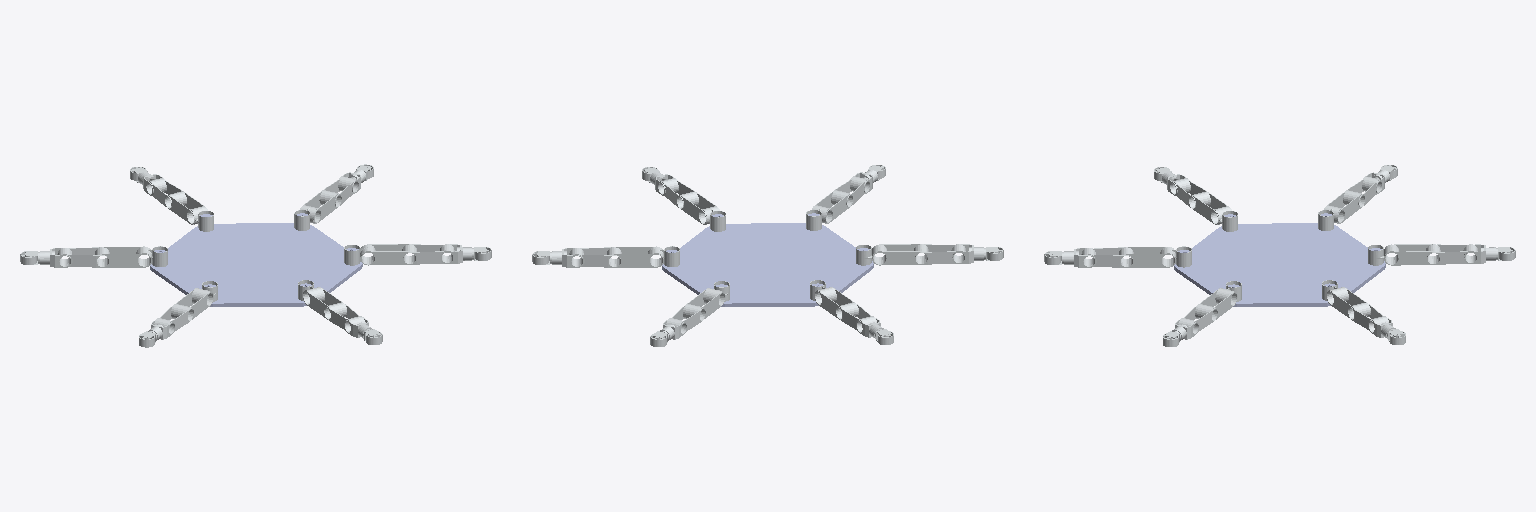
--- What the picture shows (computed from the rendered views, not written in the file) ---
The picture shows the robot from 3 angles, left to right: view 1: azimuth 30°, elevation 25°; view 2: azimuth 150°, elevation 25°; view 3: azimuth 270°, elevation 25°; orthographic projection.
Model athlete_rover with 38 links and 37 joints (30 revolute, 6 continuous, 1 fixed), rooted at dummy_link, posed every joint at zero.
Visible links, largest first — view 1: base_link, femur_2_link, femur_5_link, tibia_5_link, tibia_2_link, femur_4_link, femur_1_link, femur_3_link, femur_6_link; view 2: base_link, femur_6_link, femur_3_link, tibia_3_link, tibia_6_link, femur_2_link, femur_5_link, femur_1_link, femur_4_link; view 3: base_link, femur_1_link, femur_4_link, tibia_1_link, tibia_4_link, femur_6_link, femur_3_link, femur_5_link, femur_2_link.
Boxes of the visible links, box(x1,y1,x2,y2) form: base_link: box(150, 213, 362, 306); femur_2_link: box(95, 246, 151, 267); femur_5_link: box(361, 244, 416, 265); tibia_5_link: box(403, 244, 454, 264); tibia_2_link: box(57, 247, 108, 267); femur_4_link: box(303, 288, 346, 317); femur_1_link: box(168, 191, 207, 224); femur_3_link: box(171, 288, 213, 319); femur_6_link: box(300, 190, 338, 223); base_link: box(662, 213, 873, 306); femur_6_link: box(607, 247, 663, 267); femur_3_link: box(872, 244, 928, 265); tibia_3_link: box(915, 244, 965, 264); tibia_6_link: box(569, 247, 620, 267); femur_2_link: box(815, 288, 858, 317); femur_5_link: box(679, 191, 719, 224); femur_1_link: box(683, 290, 725, 318); femur_4_link: box(812, 190, 849, 223); base_link: box(1174, 213, 1385, 306); femur_1_link: box(1384, 244, 1440, 265); femur_4_link: box(1119, 247, 1175, 267); tibia_1_link: box(1427, 244, 1477, 264); tibia_4_link: box(1081, 247, 1132, 267); femur_6_link: box(1327, 288, 1370, 317); femur_3_link: box(1191, 191, 1231, 224); femur_5_link: box(1195, 288, 1237, 319); femur_2_link: box(1324, 190, 1361, 223).
Bounding box of the posed robot: 4.98 × 5.65 × 0.2415 m (x, y, z).
37 mesh visuals loaded from 37 distinct referenced files (37 binary STL).

URDF robot description (athlete_rover):
<?xml version="1.0" encoding="utf-8"?>
<!-- This URDF was automatically created by SolidWorks to URDF Exporter! Originally created by Stephen Brawner ([email redacted]) 
     Commit Version: 1.6.0-4-g7f85cfe  Build Version: 1.6.7995.38578
     For more information, please see http://wiki.ros.org/sw_urdf_exporter -->
<robot
  name="athlete_rover">

  <link name="dummy_link">
  <pose> 0 0 0 0 0 0 </pose>
  </link>
  <joint name="dummy_link_joint" type="fixed">
    <parent link="dummy_link"/>
    <child link="base_link"/>
  </joint>
  
  <link
    name="base_link">
    <inertial>
      <origin
        xyz="-3.89651045737105E-06 -3.51661274569633E-05 0.022819804533394"
        rpy="0 0 0" />
      <mass
        value="82.1772844380817" />
      <inertia
        ixx="41.2297284246966"
        ixy="8.06934896757869E-05"
        ixz="4.60423099729454E-05"
        iyy="41.2341036600388"
        iyz="0.000409782496317497"
        izz="82.1122087409556" />
    </inertial>
    <visual>
      <origin
        xyz="0 0 0"
        rpy="0 0 0" />
      <geometry>
        <mesh
          filename="package://athlete_rover/meshes/base_link.STL" />
      </geometry>
      <material
        name="">
        <color
          rgba="0.792156862745098 0.819607843137255 0.933333333333333 1" />
      </material>
    </visual>
    <collision>
      <origin
        xyz="0 0 0"
        rpy="0 0 0" />
      <geometry>
        <mesh
          filename="package://athlete_rover/meshes/base_link.STL" />
      </geometry>
    </collision>
  </link>
  <link
    name="coxa_1_link">
    <inertial>
      <origin
        xyz="-0.0020752967250691 0.0949654432786211 4.12522192794196E-09"
        rpy="0 0 0" />
      <mass
        value="3.09349733545696" />
      <inertia
        ixx="0.0516743356882014"
        ixy="0.000635104468693699"
        ixz="5.77488235257917E-11"
        iyy="0.0226258682108944"
        iyz="-2.81451449627731E-11"
        izz="0.0520928564501634" />
    </inertial>
    <visual>
      <origin
        xyz="0 0 0"
        rpy="0 0 0" />
      <geometry>
        <mesh
          filename="package://athlete_rover/meshes/coxa_1_link.STL" />
      </geometry>
      <material
        name="">
        <color
          rgba="0.898039215686275 0.917647058823529 0.929411764705882 1" />
      </material>
    </visual>
    <collision>
      <origin
        xyz="0 0 0"
        rpy="0 0 0" />
      <geometry>
        <mesh
          filename="package://athlete_rover/meshes/coxa_1_link.STL" />
      </geometry>
    </collision>
  </link>
  <joint
    name="coxa_1_joint"
    type="revolute">
    <origin
      xyz="-0.0251251509143729 1.14972550062679 0.106"
      rpy="0 0 0" />
    <parent
      link="base_link" />
    <child
      link="coxa_1_link" />
    <axis
      xyz="0 0 -1" />
    <limit
      lower="-2.094"
      upper="2.094"
      effort="1000"
      velocity="0.5" />
  </joint>
  <link
    name="femur_1_link">
    <inertial>
      <origin
        xyz="-0.250000000008996 -1.09634523681734E-14 1.00160355703816E-10"
        rpy="0 0 0" />
      <mass
        value="9.59990933168455" />
      <inertia
        ixx="0.0909902906443396"
        ixy="-1.81716460834631E-14"
        ixz="8.73569183570261E-11"
        iyy="0.501606623877439"
        iyz="2.4843074816575E-17"
        izz="0.475621900290096" />
    </inertial>
    <visual>
      <origin
        xyz="0 0 0"
        rpy="0 0 0" />
      <geometry>
        <mesh
          filename="package://athlete_rover/meshes/femur_1_link.STL" />
      </geometry>
      <material
        name="">
        <color
          rgba="0.898039215686275 0.917647058823529 0.929411764705882 1" />
      </material>
    </visual>
    <collision>
      <origin
        xyz="0 0 0"
        rpy="0 0 0" />
      <geometry>
        <mesh
          filename="package://athlete_rover/meshes/femur_1_link.STL" />
      </geometry>
    </collision>
  </link>
  <joint
    name="femur_1_joint"
    type="revolute">
    <origin
      xyz="-0.0041729598475176 0.190954409234537 0"
      rpy="-1.5707963267949 0 -1.54894663097856" />
    <parent
      link="coxa_1_link" />
    <child
      link="femur_1_link" />
    <axis
      xyz="0 0 -1" />
    <limit
      lower="-1.57"
      upper="1.57"
      effort="1000"
      velocity="0.5" />
  </joint>
  <link
    name="tibia_1_link">
    <inertial>
      <origin
        xyz="0.261818511880902 -6.09914559755731E-06 -9.21556681939065E-05"
        rpy="0 0 0" />
      <mass
        value="6.96014302108094" />
      <inertia
        ixx="0.0635588753454974"
        ixy="1.46469185579545E-06"
        ixz="1.31637927549643E-05"
        iyy="0.287249190237788"
        iyz="2.03209016254882E-07"
        izz="0.265244228247773" />
    </inertial>
    <visual>
      <origin
        xyz="0 0 0"
        rpy="0 0 0" />
      <geometry>
        <mesh
          filename="package://athlete_rover/meshes/tibia_1_link.STL" />
      </geometry>
      <material
        name="">
        <color
          rgba="0.898039215686275 0.917647058823529 0.929411764705882 1" />
      </material>
    </visual>
    <collision>
      <origin
        xyz="0 0 0"
        rpy="0 0 0" />
      <geometry>
        <mesh
          filename="package://athlete_rover/meshes/tibia_1_link.STL" />
      </geometry>
    </collision>
  </link>
  <joint
    name="tibia_1_joint"
    type="revolute">
    <origin
      xyz="-0.5 0 0"
      rpy="0 0 -3.14159265358975" />
    <parent
      link="femur_1_link" />
    <child
      link="tibia_1_link" />
    <axis
      xyz="0 0 -1" />
    <limit
      lower="-1.57"
      upper="1.57"
      effort="1000"
      velocity="0.5" />
  </joint>
  <link
    name="pitch_1_link">
    <inertial>
      <origin
        xyz="-0.103835711575362 -1.06858966120171E-15 2.8272709867716E-10"
        rpy="0 0 0" />
      <mass
        value="6.33029453889401" />
      <inertia
        ixx="0.0450020126784382"
        ixy="-1.54914091166948E-17"
        ixz="-1.74860722689657E-12"
        iyy="0.0463115920590276"
        iyz="1.19130119574728E-17"
        izz="0.0373029491223062" />
    </inertial>
    <visual>
      <origin
        xyz="0 0 0"
        rpy="0 0 0" />
      <geometry>
        <mesh
          filename="package://athlete_rover/meshes/pitch_1_link.STL" />
      </geometry>
      <material
        name="">
        <color
          rgba="0.898039215686275 0.917647058823529 0.929411764705882 1" />
      </material>
    </visual>
    <collision>
      <origin
        xyz="0 0 0"
        rpy="0 0 0" />
      <geometry>
        <mesh
          filename="package://athlete_rover/meshes/pitch_1_link.STL" />
      </geometry>
    </collision>
  </link>
  <joint
    name="pitch_1_joint"
    type="revolute">
    <origin
      xyz="0.449999999999999 0 0"
      rpy="0 0 3.14159265358978" />
    <parent
      link="tibia_1_link" />
    <child
      link="pitch_1_link" />
    <axis
      xyz="0 0 -1" />
    <limit
      lower="-1.57"
      upper="1.57"
      effort="1000"
      velocity="0.5" />
  </joint>
  <link
    name="roll_1_link">
    <inertial>
      <origin
        xyz="-1.3878E-17 -1.3878E-17 0.036219"
        rpy="0 0 0" />
      <mass
        value="2.8914" />
      <inertia
        ixx="0.027037"
        ixy="-8.5016E-19"
        ixz="1.1411E-17"
        iyy="0.026416"
        iyz="-2.8221E-18"
        izz="0.012233" />
    </inertial>
    <visual>
      <origin
        xyz="0 0 0"
        rpy="0 0 0" />
      <geometry>
        <mesh
          filename="package://athlete_rover/meshes/roll_1_link.STL" />
      </geometry>
      <material
        name="">
        <color
          rgba="0.89804 0.91765 0.92941 1" />
      </material>
    </visual>
    <collision>
      <origin
        xyz="0 0 0"
        rpy="0 0 0" />
      <geometry>
        <mesh
          filename="package://athlete_rover/meshes/roll_1_link.STL" />
      </geometry>
    </collision>
  </link>
  <joint
    name="roll_1_joint"
    type="revolute">
    <origin
      xyz="-0.225 0 0"
      rpy="3.1416 1.5708 0" />
    <parent
      link="pitch_1_link" />
    <child
      link="roll_1_link" />
    <axis
      xyz="0 0 1" />
    <limit
      lower="-1.57"
      upper="1.57"
      effort="1000"
      velocity="0.5" />
  </joint>
  <link
    name="wheel_1_link">
    <inertial>
      <origin
        xyz="3.5785437113578E-10 7.8177464502005E-12 4.16333634234434E-17"
        rpy="0 0 0" />
      <mass
        value="4.70127847510141" />
      <inertia
        ixx="0.014956729011549"
        ixy="-6.20739724327515E-18"
        ixz="-3.57282624309142E-19"
        iyy="0.014956729011549"
        iyz="7.6462924007719E-19"
        izz="0.0216299418386296" />
    </inertial>
    <visual>
      <origin
        xyz="0 0 0"
        rpy="0 0 0" />
      <geometry>
        <mesh
          filename="package://athlete_rover/meshes/wheel_1_link.STL" />
      </geometry>
      <material
        name="">
        <color
          rgba="0.898039215686275 0.917647058823529 0.929411764705882 1" />
      </material>
    </visual>
    <collision>
      <origin
        xyz="0 0 0"
        rpy="0 0 0" />
      <geometry>
        <mesh
          filename="package://athlete_rover/meshes/wheel_1_link.STL" />
      </geometry>
    </collision>
  </link>
  <joint
    name="wheel_1_joint"
    type="continuous">
    <origin
      xyz="0 0 0.210000000000002"
      rpy="1.5707963267949 0.0218496955892154 -3.14159265358979" />
    <parent
      link="roll_1_link" />
    <child
      link="wheel_1_link" />
    <axis
      xyz="0 0 -1" />
    <limit
      effort="1000"
      velocity="5" />
  </joint>
  <link
    name="coxa_2_link">
    <inertial>
      <origin
        xyz="-0.0841776002576038 0.0461779739081903 -2.22181904402374E-08"
        rpy="0 0 0" />
      <mass
        value="3.09350209867759" />
      <inertia
        ixx="0.0294315495230902"
        ixy="0.012431431143693"
        ixz="5.79551469685196E-09"
        iyy="0.0452732382073039"
        iyz="2.22228995617047E-08"
        izz="0.0516882160049569" />
    </inertial>
    <visual>
      <origin
        xyz="0 0 0"
        rpy="0 0 0" />
      <geometry>
        <mesh
          filename="package://athlete_rover/meshes/coxa_2_link.STL" />
      </geometry>
      <material
        name="">
        <color
          rgba="0.898039215686275 0.917647058823529 0.929411764705882 1" />
      </material>
    </visual>
    <collision>
      <origin
        xyz="0 0 0"
        rpy="0 0 0" />
      <geometry>
        <mesh
          filename="package://athlete_rover/meshes/coxa_2_link.STL" />
      </geometry>
    </collision>
  </link>
  <joint
    name="coxa_2_joint"
    type="revolute">
    <origin
      xyz="-1.00825406637877 0.55310373134763 0.106"
      rpy="0 0 0" />
    <parent
      link="base_link" />
    <child
      link="coxa_2_link" />
    <axis
      xyz="0 0 -1" />
    <limit
      lower="-2.094"
      upper="2.094"
      effort="1000"
      velocity="0.5" />
  </joint>
  <link
    name="femur_2_link">
    <inertial>
      <origin
        xyz="-0.249999999991002 -6.93889390390723E-17 -1.11022302462516E-16"
        rpy="0 0 0" />
      <mass
        value="9.59990933168453" />
      <inertia
        ixx="0.0909902906443392"
        ixy="-7.42070022951904E-17"
        ixz="3.81639164714898E-17"
        iyy="0.501606623877439"
        iyz="-2.22833013519317E-17"
        izz="0.475621900290096" />
    </inertial>
    <visual>
      <origin
        xyz="0 0 0"
        rpy="0 0 0" />
      <geometry>
        <mesh
          filename="package://athlete_rover/meshes/femur_2_link.STL" />
      </geometry>
      <material
        name="">
        <color
          rgba="0.898039215686275 0.917647058823529 0.929411764705882 1" />
      </material>
    </visual>
    <collision>
      <origin
        xyz="0 0 0"
        rpy="0 0 0" />
      <geometry>
        <mesh
          filename="package://athlete_rover/meshes/femur_2_link.STL" />
      </geometry>
    </collision>
  </link>
  <joint
    name="femur_2_joint"
    type="revolute">
    <origin
      xyz="-0.167457849264654 0.0918633154183783 0"
      rpy="1.5707963267949 0 -0.501749080009075" />
    <parent
      link="coxa_2_link" />
    <child
      link="femur_2_link" />
    <axis
      xyz="0 0 1" />
    <limit
      lower="-1.57"
      upper="1.57"
      effort="1000"
      velocity="0.5" />
  </joint>
  <link
    name="tibia_2_link">
    <inertial>
      <origin
        xyz="-0.261818628643989 6.3043057244444E-06 -9.21714200156076E-05"
        rpy="0 0 0" />
      <mass
        value="6.96014125805255" />
      <inertia
        ixx="0.0635589134253886"
        ixy="1.44038404440838E-06"
        ixz="-1.31705028903872E-05"
        iyy="0.287249194512423"
        iyz="-2.0997636667745E-07"
        izz="0.265244297382879" />
    </inertial>
    <visual>
      <origin
        xyz="0 0 0"
        rpy="0 0 0" />
      <geometry>
        <mesh
          filename="package://athlete_rover/meshes/tibia_2_link.STL" />
      </geometry>
      <material
        name="">
        <color
          rgba="0.898039215686275 0.917647058823529 0.929411764705882 1" />
      </material>
    </visual>
    <collision>
      <origin
        xyz="0 0 0"
        rpy="0 0 0" />
      <geometry>
        <mesh
          filename="package://athlete_rover/meshes/tibia_2_link.STL" />
      </geometry>
    </collision>
  </link>
  <joint
    name="tibia_2_joint"
    type="revolute">
    <origin
      xyz="-0.5 0 0"
      rpy="0 0 0" />
    <parent
      link="femur_2_link" />
    <child
      link="tibia_2_link" />
    <axis
      xyz="0 0 1" />
    <limit
      lower="-1.57"
      upper="1.57"
      effort="1000"
      velocity="0.5" />
  </joint>
  <link
    name="pitch_2_link">
    <inertial>
      <origin
        xyz="-0.10383571157536 -1.52655665885959E-16 0"
        rpy="0 0 0" />
      <mass
        value="6.330294538894" />
      <inertia
        ixx="0.0450020126784381"
        ixy="-2.63911714924311E-18"
        ixz="5.72458747072346E-17"
        iyy="0.0463115920590275"
        iyz="-5.95799783764516E-18"
        izz="0.0373029491223061" />
    </inertial>
    <visual>
      <origin
        xyz="0 0 0"
        rpy="0 0 0" />
      <geometry>
        <mesh
          filename="package://athlete_rover/meshes/pitch_2_link.STL" />
      </geometry>
      <material
        name="">
        <color
          rgba="0.898039215686275 0.917647058823529 0.929411764705882 1" />
      </material>
    </visual>
    <collision>
      <origin
        xyz="0 0 0"
        rpy="0 0 0" />
      <geometry>
        <mesh
          filename="package://athlete_rover/meshes/pitch_2_link.STL" />
      </geometry>
    </collision>
  </link>
  <joint
    name="pitch_2_joint"
    type="revolute">
    <origin
      xyz="-0.45 0 0"
      rpy="0 0 0" />
    <parent
      link="tibia_2_link" />
    <child
      link="pitch_2_link" />
    <axis
      xyz="0 0 1" />
    <limit
      lower="-1.57"
      upper="1.57"
      effort="1000"
      velocity="0.5" />
  </joint>
  <link
    name="roll_2_link">
    <inertial>
      <origin
        xyz="-3.1722E-11 6.9389E-16 0.036219"
        rpy="0 0 0" />
      <mass
        value="2.8914" />
      <inertia
        ixx="0.027037"
        ixy="-2.5997E-18"
        ixz="3.3621E-12"
        iyy="0.026416"
        iyz="1.0399E-17"
        izz="0.012233" />
    </inertial>
    <visual>
      <origin
        xyz="0 0 0"
        rpy="0 0 0" />
      <geometry>
        <mesh
          filename="package://athlete_rover/meshes/roll_2_link.STL" />
      </geometry>
      <material
        name="">
        <color
          rgba="0.89804 0.91765 0.92941 1" />
      </material>
    </visual>
    <collision>
      <origin
        xyz="0 0 0"
        rpy="0 0 0" />
      <geometry>
        <mesh
          filename="package://athlete_rover/meshes/roll_2_link.STL" />
      </geometry>
    </collision>
  </link>
  <joint
    name="roll_2_joint"
    type="revolute">
    <origin
      xyz="-0.225 0 0"
      rpy="0 -1.5708 0" />
    <parent
      link="pitch_2_link" />
    <child
      link="roll_2_link" />
    <axis
      xyz="0 0 1" />
    <limit
      lower="-1.57"
      upper="1.57"
      effort="1000"
      velocity="0.5" />
  </joint>
  <link
    name="wheel_2_link">
    <inertial>
      <origin
        xyz="4.7518E-11 8.6614E-11 4.7184E-16"
        rpy="0 0 0" />
      <mass
        value="4.7013" />
      <inertia
        ixx="0.014957"
        ixy="1.2311E-17"
        ixz="-1.4353E-18"
        iyy="0.014957"
        iyz="-7.4284E-19"
        izz="0.02163" />
    </inertial>
    <visual>
      <origin
        xyz="0 0 0"
        rpy="0 0 0" />
      <geometry>
        <mesh
          filename="package://athlete_rover/meshes/wheel_2_link.STL" />
      </geometry>
      <material
        name="">
        <color
          rgba="0.89804 0.91765 0.92941 1" />
      </material>
    </visual>
    <collision>
      <origin
        xyz="0 0 0"
        rpy="0 0 0" />
      <geometry>
        <mesh
          filename="package://athlete_rover/meshes/wheel_2_link.STL" />
      </geometry>
    </collision>
  </link>
  <joint
    name="wheel_2_joint"
    type="continuous">
    <origin
      xyz="0 0 0.210000000000002"
      rpy="1.5707963267949 1.06904724701293 3.14159265358979" />
    <parent
      link="roll_2_link" />
    <child
      link="wheel_2_link" />
    <axis
      xyz="0 0 -1" />
    <limit
      effort="1000"
      velocity="5" />
  </joint>
  <link
    name="coxa_3_link">
    <inertial>
      <origin
        xyz="-0.0812049627524478 -0.0492800521399603 2.24711022747681E-07"
        rpy="0 0 0" />
      <mass
        value="3.0935171186438" />
      <inertia
        ixx="0.0304380209744716"
        ixy="-0.0128959125993843"
        ixz="6.60459464547568E-10"
        iyy="0.0438622263728826"
        iyz="1.81434039495181E-08"
        izz="0.0520928544158363" />
    </inertial>
    <visual>
      <origin
        xyz="0 0 0"
        rpy="0 0 0" />
      <geometry>
        <mesh
          filename="package://athlete_rover/meshes/coxa_3_link.STL" />
      </geometry>
      <material
        name="">
        <color
          rgba="0.898039215686275 0.917647058823529 0.929411764705882 1" />
      </material>
    </visual>
    <collision>
      <origin
        xyz="0 0 0"
        rpy="0 0 0" />
      <geometry>
        <mesh
          filename="package://athlete_rover/meshes/coxa_3_link.STL" />
      </geometry>
    </collision>
  </link>
  <joint
    name="coxa_3_joint"
    type="revolute">
    <origin
      xyz="-0.983128915464405 -0.596621769279152 0.106"
      rpy="0 0 0" />
    <parent
      link="base_link" />
    <child
      link="coxa_3_link" />
    <axis
      xyz="0 0 -1" />
    <limit
      lower="-2.094"
      upper="2.094"
      effort="1000"
      velocity="0.5" />
  </joint>
  <link
    name="femur_3_link">
    <inertial>
      <origin
        xyz="-0.249999999991004 1.52655665885959E-16 -1.00153774162948E-10"
        rpy="0 0 0" />
      <mass
        value="9.59990933168453" />
      <inertia
        ixx="0.0909902906443396"
        ixy="1.39513442257537E-16"
        ixz="-8.73522192079701E-11"
        iyy="0.501606623877438"
        iyz="1.30494604954058E-17"
        izz="0.475621900290094" />
    </inertial>
    <visual>
      <origin
        xyz="0 0 0"
        rpy="0 0 0" />
      <geometry>
        <mesh
          filename="package://athlete_rover/meshes/femur_3_link.STL" />
      </geometry>
      <material
        name="">
        <color
          rgba="0.898039215686275 0.917647058823529 0.929411764705882 1" />
      </material>
    </visual>
    <collision>
      <origin
        xyz="0 0 0"
        rpy="0 0 0" />
      <geometry>
        <mesh
          filename="package://athlete_rover/meshes/femur_3_link.STL" />
      </geometry>
    </collision>
  </link>
  <joint
    name="femur_3_joint"
    type="revolute">
    <origin
      xyz="-0.163284889438 -0.0990910938541903 0"
      rpy="1.5707963267949 0 0.545448471414632" />
    <parent
      link="coxa_3_link" />
    <child
      link="femur_3_link" />
    <axis
      xyz="0 0 1" />
    <limit
      lower="-1.57"
      upper="1.57"
      effort="1000"
      velocity="0.5" />
  </joint>
  <link
    name="tibia_3_link">
    <inertial>
      <origin
        xyz="-0.261818901511832 6.53753785352651E-06 -9.23887225463549E-05"
        rpy="0 0 0" />
      <mass
        value="6.96011256471288" />
      <inertia
        ixx="0.0635386720924055"
        ixy="1.74511242102112E-06"
        ixz="-1.23020730997507E-05"
        iyy="0.287252730680044"
        iyz="-8.89510348752013E-07"
        izz="0.265230667311691" />
    </inertial>
    <visual>
      <origin
        xyz="0 0 0"
        rpy="0 0 0" />
      <geometry>
        <mesh
          filename="package://athlete_rover/meshes/tibia_3_link.STL" />
      </geometry>
      <material
        name="">
        <color
          rgba="0.898039215686275 0.917647058823529 0.929411764705882 1" />
      </material>
    </visual>
    <collision>
      <origin
        xyz="0 0 0"
        rpy="0 0 0" />
      <geometry>
        <mesh
          filename="package://athlete_rover/meshes/tibia_3_link.STL" />
      </geometry>
    </collision>
  </link>
  <joint
    name="tibia_3_joint"
    type="revolute">
    <origin
      xyz="-0.5 0 0"
      rpy="0 0 0" />
    <parent
      link="femur_3_link" />
    <child
      link="tibia_3_link" />
    <axis
      xyz="0 0 1" />
    <limit
      lower="-1.57"
      upper="1.57"
      effort="1000"
      velocity="0.5" />
  </joint>
  <link
    name="pitch_3_link">
    <inertial>
      <origin
        xyz="-0.103835711575361 -1.2490009027033E-16 -2.82709855525809E-10"
        rpy="0 0 0" />
      <mass
        value="6.33029453889401" />
      <inertia
        ixx="0.0450020126784383"
        ixy="3.29904277804922E-18"
        ixz="1.74852146650473E-12"
        iyy="0.0463115920590277"
        iyz="2.85399041535222E-18"
        izz="0.0373029491223062" />
    </inertial>
    <visual>
      <origin
        xyz="0 0 0"
        rpy="0 0 0" />
      <geometry>
        <mesh
          filename="package://athlete_rover/meshes/pitch_3_link.STL" />
      </geometry>
      <material
        name="">
        <color
          rgba="0.898039215686275 0.917647058823529 0.929411764705882 1" />
      </material>
    </visual>
    <collision>
      <origin
        xyz="0 0 0"
        rpy="0 0 0" />
      <geometry>
        <mesh
          filename="package://athlete_rover/meshes/pitch_3_link.STL" />
      </geometry>
    </collision>
  </link>
  <joint
    name="pitch_3_joint"
    type="revolute">
    <origin
      xyz="-0.45 0 0"
      rpy="0 0 0" />
    <parent
      link="tibia_3_link" />
    <child
      link="pitch_3_link" />
    <axis
      xyz="0 0 1" />
    <limit
      lower="-1.57"
      upper="1.57"
      effort="1000"
      velocity="0.5" />
  </joint>
  <link
    name="roll_3_link">
    <inertial>
      <origin
        xyz="-3.18453263759011E-10 -3.46944695195361E-16 0.0362188872061391"
        rpy="0 0 0" />
      <mass
        value="2.89141906646132" />
      <inertia
        ixx="0.0270370859108734"
        ixy="-1.19652927561417E-18"
        ixz="3.36209966117496E-12"
        iyy="0.0264160616419825"
        iyz="1.53972123388716E-18"
        izz="0.0122331983415657" />
    </inertial>
    <visual>
      <origin
        xyz="0 0 0"
        rpy="0 0 0" />
      <geometry>
        <mesh
          filename="package://athlete_rover/meshes/roll_3_link.STL" />
      </geometry>
      <material
        name="">
        <color
          rgba="0.898039215686275 0.917647058823529 0.929411764705882 1" />
      </material>
    </visual>
    <collision>
      <origin
        xyz="0 0 0"
        rpy="0 0 0" />
      <geometry>
        <mesh
          filename="package://athlete_rover/meshes/roll_3_link.STL" />
      </geometry>
    </collision>
  </link>
  <joint
    name="roll_3_joint"
    type="revolute">
    <origin
      xyz="-0.225 0 0"
      rpy="3.1416 1.5708 0" />
    <parent
      link="pitch_3_link" />
    <child
      link="roll_3_link" />
    <axis
      xyz="0 0 1" />
    <limit
      lower="-1.57"
      upper="1.57"
      effort="1000"
      velocity="0.5" />
  </joint>
  <link
    name="wheel_3_link">
    <inertial>
      <origin
        xyz="-1.85687021314607E-10 3.05979241943533E-10 -4.44089209850063E-16"
        rpy="0 0 0" />
      <mass
        value="4.7012784751014" />
      <inertia
        ixx="0.0149567290115489"
        ixy="-2.81151344842935E-18"
        ixz="5.60488957340741E-19"
        iyy="0.014956729011549"
        iyz="-2.17527384396653E-18"
        izz="0.0216299418386295" />
    </inertial>
    <visual>
      <origin
        xyz="0 0 0"
        rpy="0 0 0" />
      <geometry>
        <mesh
          filename="package://athlete_rover/meshes/wheel_3_link.STL" />
      </geometry>
      <material
        name="">
        <color
          rgba="0.898039215686275 0.917647058823529 0.929411764705882 1" />
      </material>
    </visual>
    <collision>
      <origin
        xyz="0 0 0"
        rpy="0 0 0" />
      <geometry>
        <mesh
          filename="package://athlete_rover/meshes/wheel_3_link.STL" />
      </geometry>
    </collision>
  </link>
  <joint
    name="wheel_3_joint"
    type="continuous">
    <origin
      xyz="0 0 0.21"
      rpy="-1.5707963267949 1.02534785538026 0" />
    <parent
      link="roll_3_link" />
    <child
      link="wheel_3_link" />
    <axis
      xyz="0 0 1" />
    <limit
      effort="1000"
      velocity="5" />
  </joint>
  <link
    name="coxa_4_link">
    <inertial>
      <origin
        xyz="0.00209765911084044 -0.0959889663362259 -3.59692914342347E-10"
        rpy="0 0 0" />
      <mass
        value="3.09349737090629" />
      <inertia
        ixx="0.0520787841961164"
        ixy="0.000643942982053842"
        ixz="-5.7634207353993E-11"
        iyy="0.022626061233471"
        iyz="-1.11302733835467E-11"
        izz="0.0516882145103432" />
    </inertial>
    <visual>
      <origin
        xyz="0 0 0"
        rpy="0 0 0" />
      <geometry>
        <mesh
          filename="package://athlete_rover/meshes/coxa_4_link.STL" />
      </geometry>
      <material
        name="">
        <color
          rgba="0.898039215686275 0.917647058823529 0.929411764705882 1" />
      </material>
    </visual>
    <collision>
      <origin
        xyz="0 0 0"
        rpy="0 0 0" />
      <geometry>
        <mesh
          filename="package://athlete_rover/meshes/coxa_4_link.STL" />
      </geometry>
    </collision>
  </link>
  <joint
    name="coxa_4_joint"
    type="revolute">
    <origin
      xyz="0.0251251509143635 -1.14972550062679 0.106"
      rpy="0 0 0" />
    <parent
      link="base_link" />
    <child
      link="coxa_4_link" />
    <axis
      xyz="0 0 -1" />
    <limit
      lower="-2.094"
      upper="2.094"
      effort="1000"
      velocity="0.5" />
  </joint>
  <link
    name="femur_4_link">
    <inertial>
      <origin
        xyz="-0.249999999991003 1.11022302462516E-16 -1.00160497951141E-10"
        rpy="0 0 0" />
      <mass
        value="9.59990933168454" />
      <inertia
        ixx="0.0909902906443395"
        ixy="1.71450642248072E-17"
        ixz="-8.73577486390498E-11"
        iyy="0.501606623877438"
        iyz="1.93262522600168E-17"
        izz="0.475621900290095" />
    </inertial>
    <visual>
      <origin
        xyz="0 0 0"
        rpy="0 0 0" />
      <geometry>
        <mesh
          filename="package://athlete_rover/meshes/femur_4_link.STL" />
      </geometry>
      <material
        name="">
        <color
          rgba="0.898039215686275 0.917647058823529 0.929411764705882 1" />
      </material>
    </visual>
    <collision>
      <origin
        xyz="0 0 0"
        rpy="0 0 0" />
      <geometry>
        <mesh
          filename="package://athlete_rover/meshes/femur_4_link.STL" />
      </geometry>
    </collision>
  </link>
  <joint
    name="femur_4_joint"
    type="revolute">
    <origin
      xyz="0.00417295984751717 -0.190954409234537 0"
      rpy="1.5707963267949 0 1.59264602261123" />
    <parent
      link="coxa_4_link" />
    <child
      link="femur_4_link" />
    <axis
      xyz="0 0 1" />
    <limit
      lower="-1.57"
      upper="1.57"
      effort="1000"
      velocity="0.5" />
  </joint>
  <link
    name="tibia_4_link">
    <inertial>
      <origin
        xyz="-0.26181874577919 6.30145677273097E-06 -9.23537245826958E-05"
        rpy="0 0 0" />
      <mass
        value="6.96011698092989" />
      <inertia
        ixx="0.0635585843345459"
        ixy="1.4813562431649E-06"
        ixz="-1.31633958301926E-05"
        iyy="0.287249163034089"
        iyz="-1.45333199496308E-07"
        izz="0.265243882107114" />
    </inertial>
    <visual>
      <origin
        xyz="0 0 0"
        rpy="0 0 0" />
      <geometry>
        <mesh
          filename="package://athlete_rover/meshes/tibia_4_link.STL" />
      </geometry>
      <material
        name="">
        <color
          rgba="0.898039215686275 0.917647058823529 0.929411764705882 1" />
      </material>
    </visual>
    <collision>
      <origin
        xyz="0 0 0"
        rpy="0 0 0" />
      <geometry>
        <mesh
          filename="package://athlete_rover/meshes/tibia_4_link.STL" />
      </geometry>
    </collision>
  </link>
  <joint
    name="tibia_4_joint"
    type="revolute">
    <origin
      xyz="-0.5 0 0"
      rpy="0 0 0" />
    <parent
      link="femur_4_link" />
    <child
      link="tibia_4_link" />
    <axis
      xyz="0 0 1" />
    <limit
      lower="-1.57"
      upper="1.57"
      effort="1000"
      velocity="0.5" />
  </joint>
  <link
    name="pitch_4_link">
    <inertial>
      <origin
        xyz="-0.103835711575362 4.16333634234434E-16 -2.82726647649056E-10"
        rpy="0 0 0" />
      <mass
        value="6.33029453889401" />
      <inertia
        ixx="0.0450020126784382"
        ixy="7.26138423115816E-18"
        ixz="1.74861595472406E-12"
        iyy="0.0463115920590276"
        iyz="8.0616416400947E-18"
        izz="0.0373029491223062" />
    </inertial>
    <visual>
      <origin
        xyz="0 0 0"
        rpy="0 0 0" />
      <geometry>
        <mesh
          filename="package://athlete_rover/meshes/pitch_4_link.STL" />
      </geometry>
      <material
        name="">
        <color
          rgba="0.898039215686275 0.917647058823529 0.929411764705882 1" />
      </material>
    </visual>
    <collision>
      <origin
        xyz="0 0 0"
        rpy="0 0 0" />
      <geometry>
        <mesh
          filename="package://athlete_rover/meshes/pitch_4_link.STL" />
      </geometry>
    </collision>
  </link>
  <joint
    name="pitch_4_joint"
    type="revolute">
    <origin
      xyz="-0.45 0 0"
      rpy="0 0 0" />
    <parent
      link="tibia_4_link" />
    <child
      link="pitch_4_link" />
    <axis
      xyz="0 0 1" />
    <limit
      lower="-1.57"
      upper="1.57"
      effort="1000"
      velocity="0.5" />
  </joint>
  <link
    name="roll_4_link">
    <inertial>
      <origin
        xyz="-4.85722573273506E-17 1.38777878078145E-17 0.0362188872061382"
        rpy="0 0 0" />
      <mass
        value="2.89141906646132" />
      <inertia
        ixx="0.0270370859108735"
        ixy="3.99902323036091E-19"
        ixz="1.68051336735253E-17"
        iyy="0.0264160616419826"
        iyz="-5.48426077190989E-18"
        izz="0.0122331983415657" />
    </inertial>
    <visual>
      <origin
        xyz="0 0 0"
        rpy="0 0 0" />
      <geometry>
        <mesh
          filename="package://athlete_rover/meshes/roll_4_link.STL" />
      </geometry>
      <material
        name="">
        <color
          rgba="0.898039215686275 0.917647058823529 0.929411764705882 1" />
      </material>
    </visual>
    <collision>
      <origin
        xyz="0 0 0"
        rpy="0 0 0" />
      <geometry>
        <mesh
          filename="package://athlete_rover/meshes/roll_4_link.STL" />
      </geometry>
    </collision>
  </link>
  <joint
    name="roll_4_joint"
    type="revolute">
    <origin
      xyz="-0.225 0 0"
      rpy="3.1416 1.5708 0" />
    <parent
      link="pitch_4_link" />
    <child
      link="roll_4_link" />
    <axis
      xyz="0 0 1" />
    <limit
      lower="-1.57"
      upper="1.57"
      effort="1000"
      velocity="0.5" />
  </joint>
  <link
    name="wheel_4_link">
    <inertial>
      <origin
        xyz="-3.57853538468511E-10 -7.8204109854596E-12 -1.52655665885959E-16"
        rpy="0 0 0" />
      <mass
        value="4.7012784751014" />
      <inertia
        ixx="0.014956729011549"
        ixy="-9.27600934487006E-18"
        ixz="-1.36317819590823E-19"
        iyy="0.014956729011549"
        iyz="9.56754663814901E-19"
        izz="0.0216299418386296" />
    </inertial>
    <visual>
      <origin
        xyz="0 0 0"
        rpy="0 0 0" />
      <geometry>
        <mesh
          filename="package://athlete_rover/meshes/wheel_4_link.STL" />
      </geometry>
      <material
        name="">
        <color
          rgba="0.898039215686275 0.917647058823529 0.929411764705882 1" />
      </material>
    </visual>
    <collision>
      <origin
        xyz="0 0 0"
        rpy="0 0 0" />
      <geometry>
        <mesh
          filename="package://athlete_rover/meshes/wheel_4_link.STL" />
      </geometry>
    </collision>
  </link>
  <joint
    name="wheel_4_joint"
    type="continuous">
    <origin
      xyz="0 0 0.21"
      rpy="-1.5707963267949 -0.0218496955892155 0" />
    <parent
      link="roll_4_link" />
    <child
      link="wheel_4_link" />
    <axis
      xyz="0 0 1" />
    <limit
      lower="-1.57"
      upper="1.57"
      effort="1000"
      velocity="5" />
  </joint>
  <link
    name="coxa_5_link">
    <inertial>
      <origin
        xyz="0.0841776002576045 -0.0461779739081913 -2.2218190662282E-08"
        rpy="0 0 0" />
      <mass
        value="3.09350209867758" />
      <inertia
        ixx="0.0294315495230903"
        ixy="0.0124314311436931"
        ixz="-5.79551470670104E-09"
        iyy="0.0452732382073037"
        iyz="-2.22228995830086E-08"
        izz="0.0516882160049569" />
    </inertial>
    <visual>
      <origin
        xyz="0 0 0"
        rpy="0 0 0" />
      <geometry>
        <mesh
          filename="package://athlete_rover/meshes/coxa_5_link.STL" />
      </geometry>
      <material
        name="">
        <color
          rgba="0.898039215686275 0.917647058823529 0.929411764705882 1" />
      </material>
    </visual>
    <collision>
      <origin
        xyz="0 0 0"
        rpy="0 0 0" />
      <geometry>
        <mesh
          filename="package://athlete_rover/meshes/coxa_5_link.STL" />
      </geometry>
    </collision>
  </link>
  <joint
    name="coxa_5_joint"
    type="revolute">
    <origin
      xyz="1.00825406637877 -0.55310373134763 0.106"
      rpy="0 0 0" />
    <parent
      link="base_link" />
    <child
      link="coxa_5_link" />
    <axis
      xyz="0 0 -1" />
    <limit
      lower="-2.094"
      upper="2.094"
      effort="1000"
      velocity="0.5" />
  </joint>
  <link
    name="femur_5_link">
    <inertial>
      <origin
        xyz="-0.249999999991003 6.93889390390723E-17 -1.0016154572412E-10"
        rpy="0 0 0" />
      <mass
        value="9.59990933168454" />
      <inertia
        ixx="0.0909902906443394"
        ixy="1.60445354418709E-17"
        ixz="-8.73590470795715E-11"
        iyy="0.501606623877438"
        iyz="6.531983250411E-18"
        izz="0.475621900290095" />
    </inertial>
    <visual>
      <origin
        xyz="0 0 0"
        rpy="0 0 0" />
      <geometry>
        <mesh
          filename="package://athlete_rover/meshes/femur_5_link.STL" />
      </geometry>
      <material
        name="">
        <color
          rgba="0.898039215686275 0.917647058823529 0.929411764705882 1" />
      </material>
    </visual>
    <collision>
      <origin
        xyz="0 0 0"
        rpy="0 0 0" />
      <geometry>
        <mesh
          filename="package://athlete_rover/meshes/femur_5_link.STL" />
      </geometry>
    </collision>
  </link>
  <joint
    name="femur_5_joint"
    type="revolute">
    <origin
      xyz="0.167457849285518 -0.091863315380346 0"
      rpy="1.5707963267949 0 2.63984357380784" />
    <parent
      link="coxa_5_link" />
    <child
      link="femur_5_link" />
    <axis
      xyz="0 0 1" />
    <limit
      lower="-1.57"
      upper="1.57"
      effort="1000"
      velocity="0.5" />
  </joint>
  <link
    name="tibia_5_link">
    <inertial>
      <origin
        xyz="0.261818628643969 -6.3043057244444E-06 -9.21716364238323E-05"
        rpy="0 0 0" />
      <mass
        value="6.96014125805255" />
      <inertia
        ixx="0.0635589134253946"
        ixy="1.44038404459051E-06"
        ixz="1.31705486981007E-05"
        iyy="0.287249194512423"
        iyz="2.09976366256622E-07"
        izz="0.265244297382873" />
    </inertial>
    <visual>
      <origin
        xyz="0 0 0"
        rpy="0 0 0" />
      <geometry>
        <mesh
          filename="package://athlete_rover/meshes/tibia_5_link.STL" />
      </geometry>
      <material
        name="">
        <color
          rgba="0.898039215686275 0.917647058823529 0.929411764705882 1" />
      </material>
    </visual>
    <collision>
      <origin
        xyz="0 0 0"
        rpy="0 0 0" />
      <geometry>
        <mesh
          filename="package://athlete_rover/meshes/tibia_5_link.STL" />
      </geometry>
    </collision>
  </link>
  <joint
    name="tibia_5_joint"
    type="revolute">
    <origin
      xyz="-0.499999999999999 0 0"
      rpy="0 0 3.14159265358979" />
    <parent
      link="femur_5_link" />
    <child
      link="tibia_5_link" />
    <axis
      xyz="0 0 1" />
    <limit
      lower="-1.57"
      upper="1.57"
      effort="1000"
      velocity="0.5" />
  </joint>
  <link
    name="pitch_5_link">
    <inertial>
      <origin
        xyz="-0.103835711575361 1.11022302462516E-16 -2.82732282030906E-10"
        rpy="0 0 0" />
      <mass
        value="6.33029453889401" />
      <inertia
        ixx="0.0450020126784382"
        ixy="6.57867186439344E-18"
        ixz="1.74865157076542E-12"
        iyy="0.0463115920590276"
        iyz="-4.67072586671456E-18"
        izz="0.0373029491223062" />
    </inertial>
    <visual>
      <origin
        xyz="0 0 0"
        rpy="0 0 0" />
      <geometry>
        <mesh
          filename="package://athlete_rover/meshes/pitch_5_link.STL" />
      </geometry>
      <material
        name="">
        <color
          rgba="0.898039215686275 0.917647058823529 0.929411764705882 1" />
      </material>
    </visual>
    <collision>
      <origin
        xyz="0 0 0"
        rpy="0 0 0" />
      <geometry>
        <mesh
          filename="package://athlete_rover/meshes/pitch_5_link.STL" />
      </geometry>
    </collision>
  </link>
  <joint
    name="pitch_5_joint"
    type="revolute">
    <origin
      xyz="0.45 0 0"
      rpy="0 0 -3.14159265358979" />
    <parent
      link="tibia_5_link" />
    <child
      link="pitch_5_link" />
    <axis
      xyz="0 0 1" />
    <limit
      lower="-1.57"
      upper="1.57"
      effort="1000"
      velocity="0.5" />
  </joint>
  <link
    name="roll_5_link">
    <inertial>
      <origin
        xyz="-3.17340154154522E-10 -2.4980018054066E-16 0.0362188872061378"
        rpy="0 0 0" />
      <mass
        value="2.89141906646132" />
      <inertia
        ixx="0.0270370859108735"
        ixy="-1.71405676189309E-18"
        ixz="3.36229655228948E-12"
        iyy="0.0264160616419826"
        iyz="-8.47586132724697E-19"
        izz="0.0122331983415657" />
    </inertial>
    <visual>
      <origin
        xyz="0 0 0"
        rpy="0 0 0" />
      <geometry>
        <mesh
          filename="package://athlete_rover/meshes/roll_5_link.STL" />
      </geometry>
      <material
        name="">
        <color
          rgba="0.898039215686275 0.917647058823529 0.929411764705882 1" />
      </material>
    </visual>
    <collision>
      <origin
        xyz="0 0 0"
        rpy="0 0 0" />
      <geometry>
        <mesh
          filename="package://athlete_rover/meshes/roll_5_link.STL" />
      </geometry>
    </collision>
  </link>
  <joint
    name="roll_5_joint"
    type="revolute">
    <origin
      xyz="-0.22 0 0"
      rpy="3.1416 1.5708 0" />
    <parent
      link="pitch_5_link" />
    <child
      link="roll_5_link" />
    <axis
      xyz="0 0 1" />
    <limit
      lower="-1.57"
      upper="1.57"
      effort="1000"
      velocity="0.5" />
  </joint>
  <link
    name="wheel_5_link">
    <inertial>
      <origin
        xyz="-1.71611169719199E-10 -3.1282976209468E-10 5.82867087928207E-16"
        rpy="0 0 0" />
      <mass
        value="4.7012784751014" />
      <inertia
        ixx="0.014956729011549"
        ixy="-5.71547127862865E-18"
        ixz="-6.5044131199705E-18"
        iyy="0.014956729011549"
        iyz="-1.57202280128661E-18"
        izz="0.0216299418386296" />
    </inertial>
    <visual>
      <origin
        xyz="0 0 0"
        rpy="0 0 0" />
      <geometry>
        <mesh
          filename="package://athlete_rover/meshes/wheel_5_link.STL" />
      </geometry>
      <material
        name="">
        <color
          rgba="0.898039215686275 0.917647058823529 0.929411764705882 1" />
      </material>
    </visual>
    <collision>
      <origin
        xyz="0 0 0"
        rpy="0 0 0" />
      <geometry>
        <mesh
          filename="package://athlete_rover/meshes/wheel_5_link.STL" />
      </geometry>
    </collision>
  </link>
  <joint
    name="wheel_5_joint"
    type="continuous">
    <origin
      xyz="0 0 0.21"
      rpy="-1.5707963267949 -1.06904724701294 0" />
    <parent
      link="roll_5_link" />
    <child
      link="wheel_5_link" />
    <axis
      xyz="0 0 1" />
    <limit
      effort="1000"
      velocity="5" />
  </joint>
  <link
    name="coxa_6_link">
    <inertial>
      <origin
        xyz="0.0820801003794213 0.049810917590959 -2.82973502963024E-08"
        rpy="0 0 0" />
      <mass
        value="3.09350193006676" />
      <inertia
        ixx="0.0305469275370121"
        ixy="-0.0130753634095859"
        ixz="1.14910261843899E-08"
        iyy="0.0441579718017226"
        iyz="-1.44792654986163E-08"
        izz="0.0516882226817457" />
    </inertial>
    <visual>
      <origin
        xyz="0 0 0"
        rpy="0 0 0" />
      <geometry>
        <mesh
          filename="package://athlete_rover/meshes/coxa_6_link.STL" />
      </geometry>
      <material
        name="">
        <color
          rgba="0.898039215686275 0.917647058823529 0.929411764705882 1" />
      </material>
    </visual>
    <collision>
      <origin
        xyz="0 0 0"
        rpy="0 0 0" />
      <geometry>
        <mesh
          filename="package://athlete_rover/meshes/coxa_6_link.STL" />
      </geometry>
    </collision>
  </link>
  <joint
    name="coxa_6_joint"
    type="revolute">
    <origin
      xyz="0.983128915464399 0.596621769279159 0.106"
      rpy="0 0 0" />
    <parent
      link="base_link" />
    <child
      link="coxa_6_link" />
    <axis
      xyz="0 0 -1" />
    <limit
      lower="-2.094"
      upper="2.094"
      effort="1000"
      velocity="0.5" />
  </joint>
  <link
    name="femur_6_link">
    <inertial>
      <origin
        xyz="-0.249999999991003 1.38777878078145E-17 -1.11022302462516E-16"
        rpy="0 0 0" />
      <mass
        value="9.59990933168454" />
      <inertia
        ixx="0.0909902906443395"
        ixy="2.31627282456647E-17"
        ixz="-1.11022302462516E-16"
        iyy="0.501606623877438"
        iyz="5.04447403457353E-18"
        izz="0.475621900290095" />
    </inertial>
    <visual>
      <origin
        xyz="0 0 0"
        rpy="0 0 0" />
      <geometry>
        <mesh
          filename="package://athlete_rover/meshes/femur_6_link.STL" />
      </geometry>
      <material
        name="">
        <color
          rgba="0.898039215686275 0.917647058823529 0.929411764705882 1" />
      </material>
    </visual>
    <collision>
      <origin
        xyz="0 0 0"
        rpy="0 0 0" />
      <geometry>
        <mesh
          filename="package://athlete_rover/meshes/femur_6_link.STL" />
      </geometry>
    </collision>
  </link>
  <joint
    name="femur_6_joint"
    type="revolute">
    <origin
      xyz="0.163284889460506 0.0990910938171062 0"
      rpy="1.5707963267949 0 -2.59614418240227" />
    <parent
      link="coxa_6_link" />
    <child
      link="femur_6_link" />
    <axis
      xyz="0 0 1" />
    <limit
      lower="-1.57"
      upper="1.57"
      effort="1000"
      velocity="0.5" />
  </joint>
  <link
    name="tibia_6_link">
    <inertial>
      <origin
        xyz="-0.261818901511853 6.53753785329059E-06 -9.2388506157226E-05"
        rpy="0 0 0" />
      <mass
        value="6.96011256471293" />
      <inertia
        ixx="0.0635386720924003"
        ixy="1.74511242086806E-06"
        ixz="-1.23020272945994E-05"
        iyy="0.287252730680045"
        iyz="-8.89510349103986E-07"
        izz="0.265230667311697" />
    </inertial>
    <visual>
      <origin
        xyz="0 0 0"
        rpy="0 0 0" />
      <geometry>
        <mesh
          filename="package://athlete_rover/meshes/tibia_6_link.STL" />
      </geometry>
      <material
        name="">
        <color
          rgba="0.898039215686275 0.917647058823529 0.929411764705882 1" />
      </material>
    </visual>
    <collision>
      <origin
        xyz="0 0 0"
        rpy="0 0 0" />
      <geometry>
        <mesh
          filename="package://athlete_rover/meshes/tibia_6_link.STL" />
      </geometry>
    </collision>
  </link>
  <joint
    name="tibia_6_joint"
    type="revolute">
    <origin
      xyz="-0.5 0 0"
      rpy="0 0 0" />
    <parent
      link="femur_6_link" />
    <child
      link="tibia_6_link" />
    <axis
      xyz="0 0 1" />
    <limit
      lower="-1.57"
      upper="1.57"
      effort="1000"
      velocity="0.5" />
  </joint>
  <link
    name="pitch_6_link">
    <inertial>
      <origin
        xyz="-0.103835711575361 -1.38777878078145E-17 6.66133814775094E-16"
        rpy="0 0 0" />
      <mass
        value="6.33029453889401" />
      <inertia
        ixx="0.0450020126784383"
        ixy="-4.18367410361397E-18"
        ixz="-1.21430643318376E-17"
        iyy="0.0463115920590277"
        iyz="-3.47022457242222E-18"
        izz="0.0373029491223062" />
    </inertial>
    <visual>
      <origin
        xyz="0 0 0"
        rpy="0 0 0" />
      <geometry>
        <mesh
          filename="package://athlete_rover/meshes/pitch_6_link.STL" />
      </geometry>
      <material
        name="">
        <color
          rgba="0.898039215686275 0.917647058823529 0.929411764705882 1" />
      </material>
    </visual>
    <collision>
      <origin
        xyz="0 0 0"
        rpy="0 0 0" />
      <geometry>
        <mesh
          filename="package://athlete_rover/meshes/pitch_6_link.STL" />
      </geometry>
    </collision>
  </link>
  <joint
    name="pitch_6_joint"
    type="revolute">
    <origin
      xyz="-0.45 0 0"
      rpy="0 0 0" />
    <parent
      link="tibia_6_link" />
    <child
      link="pitch_6_link" />
    <axis
      xyz="0 0 1" />
    <limit
      lower="-1.57"
      upper="1.57"
      effort="1000"
      velocity="0.5" />
  </joint>
  <link
    name="roll_6_link">
    <inertial>
      <origin
        xyz="-2.60984567290734E-11 9.64890667365381E-12 0.036218887210044"
        rpy="0 0 0" />
      <mass
        value="2.89141906646132" />
      <inertia
        ixx="0.0270370859108734"
        ixy="-1.53671546935195E-18"
        ixz="9.97465998686664E-18"
        iyy="0.0264160616419825"
        iyz="-9.35395797648595E-13"
        izz="0.0122331983415657" />
    </inertial>
    <visual>
      <origin
        xyz="0 0 0"
        rpy="0 0 0" />
      <geometry>
        <mesh
          filename="package://athlete_rover/meshes/roll_6_link.STL" />
      </geometry>
      <material
        name="">
        <color
          rgba="0.898039215686275 0.917647058823529 0.929411764705882 1" />
      </material>
    </visual>
    <collision>
      <origin
        xyz="0 0 0"
        rpy="0 0 0" />
      <geometry>
        <mesh
          filename="package://athlete_rover/meshes/roll_6_link.STL" />
      </geometry>
    </collision>
  </link>
  <joint
    name="roll_6_joint"
    type="revolute">
    <origin
      xyz="-0.225 0 0"
      rpy="2.6779 -1.5708 -2.6779" />
    <parent
      link="pitch_6_link" />
    <child
      link="roll_6_link" />
    <axis
      xyz="0 0 1" />
    <limit
      lower="-1.57"
      upper="1.57"
      effort="1000"
      velocity="0.5" />
  </joint>
  <link
    name="wheel_6_link">
    <inertial>
      <origin
        xyz="3.65276697777972E-11 -6.01900751462381E-11 4.16333634234434E-17"
        rpy="0 0 0" />
      <mass
        value="4.70127847510141" />
      <inertia
        ixx="0.014956729011549"
        ixy="-5.38288412276149E-18"
        ixz="-3.29770113907785E-19"
        iyy="0.014956729011549"
        iyz="-1.69062493888613E-18"
        izz="0.0216299418386296" />
    </inertial>
    <visual>
      <origin
        xyz="0 0 0"
        rpy="0 0 0" />
      <geometry>
        <mesh
          filename="package://athlete_rover/meshes/wheel_6_link.STL" />
      </geometry>
      <material
        name="">
        <color
          rgba="0.898039215686275 0.917647058823529 0.929411764705882 1" />
      </material>
    </visual>
    <collision>
      <origin
        xyz="0 0 0"
        rpy="0 0 0" />
      <geometry>
        <mesh
          filename="package://athlete_rover/meshes/wheel_6_link.STL" />
      </geometry>
    </collision>
  </link>
  <joint
    name="wheel_6_joint"
    type="continuous">
    <origin
      xyz="0 0 0.210000000003905"
      rpy="1.57079632692202 -1.02534785560738 3.14159265348112" />
    <parent
      link="roll_6_link" />
    <child
      link="wheel_6_link" />
    <axis
      xyz="0 0 -1" />
    <limit
      effort="1000"
      velocity="5" />
  </joint>

<!-- |  Leg 1 transmission  | -->
  <transmission name="coxa_1_trans">
    <type>transmission_interface/SimpleTransmission</type>
    <joint name="coxa_1_joint">
      <hardwareInterface>hardware_interface/EffortJointInterface</hardwareInterface>
    </joint>
    <actuator name="coxa_1_motor">
      <mechanicalReduction>1</mechanicalReduction>
      <hardwareInterface>hardware_interface/EffortJointInterface</hardwareInterface>
    </actuator>
  </transmission>
  
    <transmission name="femur_1_trans">
    <type>transmission_interface/SimpleTransmission</type>
    <joint name="femur_1_joint">
      <hardwareInterface>hardware_interface/EffortJointInterface</hardwareInterface>
    </joint>
    <actuator name="femur_1_motor">
      <mechanicalReduction>1</mechanicalReduction>
      <hardwareInterface>hardware_interface/EffortJointInterface</hardwareInterface>
    </actuator>
  </transmission>
  
    <transmission name="tibia_1_trans">
    <type>transmission_interface/SimpleTransmission</type>
    <joint name="tibia_1_joint">
      <hardwareInterface>hardware_interface/EffortJointInterface</hardwareInterface>
    </joint>
    <actuator name="tibia_1_motor">
      <mechanicalReduction>1</mechanicalReduction>
      <hardwareInterface>hardware_interface/EffortJointInterface</hardwareInterface>
    </actuator>
  </transmission>
  
    <transmission name="pitch_1_trans">
    <type>transmission_interface/SimpleTransmission</type>
    <joint name="pitch_1_joint">
      <hardwareInterface>hardware_interface/EffortJointInterface</hardwareInterface>
    </joint>
    <actuator name="pitch_1_motor">
      <mechanicalReduction>1</mechanicalReduction>
      <hardwareInterface>hardware_interface/EffortJointInterface</hardwareInterface>
    </actuator>
  </transmission>
  
    <transmission name="roll_1_trans">
    <type>transmission_interface/SimpleTransmission</type>
    <joint name="roll_1_joint">
      <hardwareInterface>hardware_interface/EffortJointInterface</hardwareInterface>
    </joint>
    <actuator name="roll_1_motor">
      <mechanicalReduction>1</mechanicalReduction>
      <hardwareInterface>hardware_interface/EffortJointInterface</hardwareInterface>
    </actuator>
  </transmission>
  
    <transmission name="wheel_1_trans">
    <type>transmission_interface/SimpleTransmission</type>
    <joint name="wheel_1_joint">
      <hardwareInterface>hardware_interface/VelocityJointInterface</hardwareInterface>
    </joint>
    <actuator name="wheel_1_motor">
      <mechanicalReduction>1</mechanicalReduction>
      <hardwareInterface>hardware_interface/VelocityJointInterface</hardwareInterface>
    </actuator>
  </transmission>
  
<!-- |  Leg 2 transmission  | -->
  <transmission name="coxa_2_trans">
    <type>transmission_interface/SimpleTransmission</type>
    <joint name="coxa_2_joint">
      <hardwareInterface>hardware_interface/EffortJointInterface</hardwareInterface>
    </joint>
    <actuator name="coxa_2_motor">
      <mechanicalReduction>1</mechanicalReduction>
      <hardwareInterface>hardware_interface/EffortJointInterface</hardwareInterface>
    </actuator>
  </transmission>
  
    <transmission name="femur_2_trans">
    <type>transmission_interface/SimpleTransmission</type>
    <joint name="femur_2_joint">
      <hardwareInterface>hardware_interface/EffortJointInterface</hardwareInterface>
    </joint>
    <actuator name="femur_2_motor">
      <mechanicalReduction>1</mechanicalReduction>
      <hardwareInterface>hardware_interface/EffortJointInterface</hardwareInterface>
    </actuator>
  </transmission>
  
    <transmission name="tibia_2_trans">
    <type>transmission_interface/SimpleTransmission</type>
    <joint name="tibia_2_joint">
      <hardwareInterface>hardware_interface/EffortJointInterface</hardwareInterface>
    </joint>
    <actuator name="tibia_2_motor">
      <mechanicalReduction>1</mechanicalReduction>
      <hardwareInterface>hardware_interface/EffortJointInterface</hardwareInterface>
    </actuator>
  </transmission>
  
    <transmission name="pitch_2_trans">
    <type>transmission_interface/SimpleTransmission</type>
    <joint name="pitch_2_joint">
      <hardwareInterface>hardware_interface/EffortJointInterface</hardwareInterface>
    </joint>
    <actuator name="pitch_2_motor">
      <mechanicalReduction>1</mechanicalReduction>
      <hardwareInterface>hardware_interface/EffortJointInterface</hardwareInterface>
    </actuator>
  </transmission>
  
    <transmission name="roll_2_trans">
    <type>transmission_interface/SimpleTransmission</type>
    <joint name="roll_2_joint">
      <hardwareInterface>hardware_interface/EffortJointInterface</hardwareInterface>
    </joint>
    <actuator name="roll_2_motor">
      <mechanicalReduction>1</mechanicalReduction>
      <hardwareInterface>hardware_interface/EffortJointInterface</hardwareInterface>
    </actuator>
  </transmission>
  
    <transmission name="wheel_2_trans">
    <type>transmission_interface/SimpleTransmission</type>
    <joint name="wheel_2_joint">
      <hardwareInterface>hardware_interface/VelocityJointInterface</hardwareInterface>
    </joint>
    <actuator name="wheel_2_motor">
      <mechanicalReduction>1</mechanicalReduction>
      <hardwareInterface>hardware_interface/VelocityJointInterface</hardwareInterface>
    </actuator>
  </transmission>
  
<!-- |  Leg 3 transmission  | -->
  <transmission name="coxa_3_trans">
    <type>transmission_interface/SimpleTransmission</type>
    <joint name="coxa_3_joint">
      <hardwareInterface>hardware_interface/EffortJointInterface</hardwareInterface>
    </joint>
    <actuator name="coxa_3_motor">
      <mechanicalReduction>1</mechanicalReduction>
      <hardwareInterface>hardware_interface/EffortJointInterface</hardwareInterface>
    </actuator>
  </transmission>
  
    <transmission name="femur_3_trans">
    <type>transmission_interface/SimpleTransmission</type>
    <joint name="femur_3_joint">
      <hardwareInterface>hardware_interface/EffortJointInterface</hardwareInterface>
    </joint>
    <actuator name="femur_3_motor">
      <mechanicalReduction>1</mechanicalReduction>
      <hardwareInterface>hardware_interface/EffortJointInterface</hardwareInterface>
    </actuator>
  </transmission>
  
    <transmission name="tibia_3_trans">
    <type>transmission_interface/SimpleTransmission</type>
    <joint name="tibia_3_joint">
      <hardwareInterface>hardware_interface/EffortJointInterface</hardwareInterface>
    </joint>
    <actuator name="tibia_3_motor">
      <mechanicalReduction>1</mechanicalReduction>
      <hardwareInterface>hardware_interface/EffortJointInterface</hardwareInterface>
    </actuator>
  </transmission>
  
    <transmission name="pitch_3_trans">
    <type>transmission_interface/SimpleTransmission</type>
    <joint name="pitch_3_joint">
      <hardwareInterface>hardware_interface/EffortJointInterface</hardwareInterface>
    </joint>
    <actuator name="pitch_3_motor">
      <mechanicalReduction>1</mechanicalReduction>
      <hardwareInterface>hardware_interface/EffortJointInterface</hardwareInterface>
    </actuator>
  </transmission>
  
    <transmission name="roll_3_trans">
    <type>transmission_interface/SimpleTransmission</type>
    <joint name="roll_3_joint">
      <hardwareInterface>hardware_interface/EffortJointInterface</hardwareInterface>
    </joint>
    <actuator name="roll_3_motor">
      <mechanicalReduction>1</mechanicalReduction>
      <hardwareInterface>hardware_interface/EffortJointInterface</hardwareInterface>
    </actuator>
  </transmission>
  
    <transmission name="wheel_3_trans">
    <type>transmission_interface/SimpleTransmission</type>
    <joint name="wheel_3_joint">
      <hardwareInterface>hardware_interface/VelocityJointInterface</hardwareInterface>
    </joint>
    <actuator name="wheel_3_motor">
      <mechanicalReduction>1</mechanicalReduction>
      <hardwareInterface>hardware_interface/VelocityJointInterface</hardwareInterface>
    </actuator>
  </transmission>
  
<!-- |  Leg 4 transmission  | -->
  <transmission name="coxa_4_trans">
    <type>transmission_interface/SimpleTransmission</type>
    <joint name="coxa_4_joint">
      <hardwareInterface>hardware_interface/EffortJointInterface</hardwareInterface>
    </joint>
    <actuator name="coxa_4_motor">
      <mechanicalReduction>1</mechanicalReduction>
      <hardwareInterface>hardware_interface/EffortJointInterface</hardwareInterface>
    </actuator>
  </transmission>
  
    <transmission name="femur_4_trans">
    <type>transmission_interface/SimpleTransmission</type>
    <joint name="femur_4_joint">
      <hardwareInterface>hardware_interface/EffortJointInterface</hardwareInterface>
    </joint>
    <actuator name="femur_4_motor">
      <mechanicalReduction>1</mechanicalReduction>
      <hardwareInterface>hardware_interface/EffortJointInterface</hardwareInterface>
    </actuator>
  </transmission>
  
    <transmission name="tibia_4_trans">
    <type>transmission_interface/SimpleTransmission</type>
    <joint name="tibia_4_joint">
      <hardwareInterface>hardware_interface/EffortJointInterface</hardwareInterface>
    </joint>
    <actuator name="tibia_4_motor">
      <mechanicalReduction>1</mechanicalReduction>
      <hardwareInterface>hardware_interface/EffortJointInterface</hardwareInterface>
    </actuator>
  </transmission>
  
    <transmission name="pitch_4_trans">
    <type>transmission_interface/SimpleTransmission</type>
    <joint name="pitch_4_joint">
      <hardwareInterface>hardware_interface/EffortJointInterface</hardwareInterface>
    </joint>
    <actuator name="pitch_4_motor">
      <mechanicalReduction>1</mechanicalReduction>
      <hardwareInterface>hardware_interface/EffortJointInterface</hardwareInterface>
    </actuator>
  </transmission>
  
    <transmission name="roll_4_trans">
    <type>transmission_interface/SimpleTransmission</type>
    <joint name="roll_4_joint">
      <hardwareInterface>hardware_interface/EffortJointInterface</hardwareInterface>
    </joint>
    <actuator name="roll_4_motor">
      <mechanicalReduction>1</mechanicalReduction>
      <hardwareInterface>hardware_interface/EffortJointInterface</hardwareInterface>
    </actuator>
  </transmission>
  
    <transmission name="wheel_4_trans">
    <type>transmission_interface/SimpleTransmission</type>
    <joint name="wheel_4_joint">
      <hardwareInterface>hardware_interface/VelocityJointInterface</hardwareInterface>
    </joint>
    <actuator name="wheel_4_motor">
      <mechanicalReduction>1</mechanicalReduction>
      <hardwareInterface>hardware_interface/VelocityJointInterface</hardwareInterface>
    </actuator>
  </transmission>
  
<!-- |  Leg 5 transmission  | -->
  <transmission name="coxa_5_trans">
    <type>transmission_interface/SimpleTransmission</type>
    <joint name="coxa_5_joint">
      <hardwareInterface>hardware_interface/EffortJointInterface</hardwareInterface>
    </joint>
    <actuator name="coxa_5_motor">
      <mechanicalReduction>1</mechanicalReduction>
      <hardwareInterface>hardware_interface/EffortJointInterface</hardwareInterface>
    </actuator>
  </transmission>
  
    <transmission name="femur_5_trans">
    <type>transmission_interface/SimpleTransmission</type>
    <joint name="femur_5_joint">
      <hardwareInterface>hardware_interface/EffortJointInterface</hardwareInterface>
    </joint>
    <actuator name="femur_5_motor">
      <mechanicalReduction>1</mechanicalReduction>
      <hardwareInterface>hardware_interface/EffortJointInterface</hardwareInterface>
    </actuator>
  </transmission>
  
    <transmission name="tibia_5_trans">
    <type>transmission_interface/SimpleTransmission</type>
    <joint name="tibia_5_joint">
      <hardwareInterface>hardware_interface/EffortJointInterface</hardwareInterface>
    </joint>
    <actuator name="tibia_5_motor">
      <mechanicalReduction>1</mechanicalReduction>
      <hardwareInterface>hardware_interface/EffortJointInterface</hardwareInterface>
    </actuator>
  </transmission>
  
    <transmission name="pitch_5_trans">
    <type>transmission_interface/SimpleTransmission</type>
    <joint name="pitch_5_joint">
      <hardwareInterface>hardware_interface/EffortJointInterface</hardwareInterface>
    </joint>
    <actuator name="pitch_5_motor">
      <mechanicalReduction>1</mechanicalReduction>
      <hardwareInterface>hardware_interface/EffortJointInterface</hardwareInterface>
    </actuator>
  </transmission>
  
    <transmission name="roll_5_trans">
    <type>transmission_interface/SimpleTransmission</type>
    <joint name="roll_5_joint">
      <hardwareInterface>hardware_interface/EffortJointInterface</hardwareInterface>
    </joint>
    <actuator name="roll_5_motor">
      <mechanicalReduction>1</mechanicalReduction>
      <hardwareInterface>hardware_interface/EffortJointInterface</hardwareInterface>
    </actuator>
  </transmission>
  
    <transmission name="wheel_5_trans">
    <type>transmission_interface/SimpleTransmission</type>
    <joint name="wheel_5_joint">
      <hardwareInterface>hardware_interface/VelocityJointInterface</hardwareInterface>
    </joint>
    <actuator name="wheel_5_motor">
      <mechanicalReduction>1</mechanicalReduction>
      <hardwareInterface>hardware_interface/VelocityJointInterface</hardwareInterface>
    </actuator>
  </transmission>
  
<!-- |  Leg 6 transmission  | -->
  <transmission name="coxa_6_trans">
    <type>transmission_interface/SimpleTransmission</type>
    <joint name="coxa_6_joint">
      <hardwareInterface>hardware_interface/EffortJointInterface</hardwareInterface>
    </joint>
    <actuator name="coxa_6_motor">
      <mechanicalReduction>1</mechanicalReduction>
      <hardwareInterface>hardware_interface/EffortJointInterface</hardwareInterface>
    </actuator>
  </transmission>
  
    <transmission name="femur_6_trans">
    <type>transmission_interface/SimpleTransmission</type>
    <joint name="femur_6_joint">
      <hardwareInterface>hardware_interface/EffortJointInterface</hardwareInterface>
    </joint>
    <actuator name="femur_6_motor">
      <mechanicalReduction>1</mechanicalReduction>
      <hardwareInterface>hardware_interface/EffortJointInterface</hardwareInterface>
    </actuator>
  </transmission>
  
    <transmission name="tibia_6_trans">
    <type>transmission_interface/SimpleTransmission</type>
    <joint name="tibia_6_joint">
      <hardwareInterface>hardware_interface/EffortJointInterface</hardwareInterface>
    </joint>
    <actuator name="tibia_6_motor">
      <mechanicalReduction>1</mechanicalReduction>
      <hardwareInterface>hardware_interface/EffortJointInterface</hardwareInterface>
    </actuator>
  </transmission>
  
    <transmission name="pitch_6_trans">
    <type>transmission_interface/SimpleTransmission</type>
    <joint name="pitch_6_joint">
      <hardwareInterface>hardware_interface/EffortJointInterface</hardwareInterface>
    </joint>
    <actuator name="pitch_6_motor">
      <mechanicalReduction>1</mechanicalReduction>
      <hardwareInterface>hardware_interface/EffortJointInterface</hardwareInterface>
    </actuator>
  </transmission>
  
    <transmission name="roll_6_trans">
    <type>transmission_interface/SimpleTransmission</type>
    <joint name="roll_6_joint">
      <hardwareInterface>hardware_interface/EffortJointInterface</hardwareInterface>
    </joint>
    <actuator name="roll_6_motor">
      <mechanicalReduction>1</mechanicalReduction>
      <hardwareInterface>hardware_interface/EffortJointInterface</hardwareInterface>
    </actuator>
  </transmission>
  
    <transmission name="wheel_6_trans">
    <type>transmission_interface/SimpleTransmission</type>
    <joint name="wheel_6_joint">
      <hardwareInterface>hardware_interface/VelocityJointInterface</hardwareInterface>
    </joint>
    <actuator name="wheel_6_motor">
      <mechanicalReduction>1</mechanicalReduction>
      <hardwareInterface>hardware_interface/VelocityJointInterface</hardwareInterface>
    </actuator>
  </transmission>
</robot>
